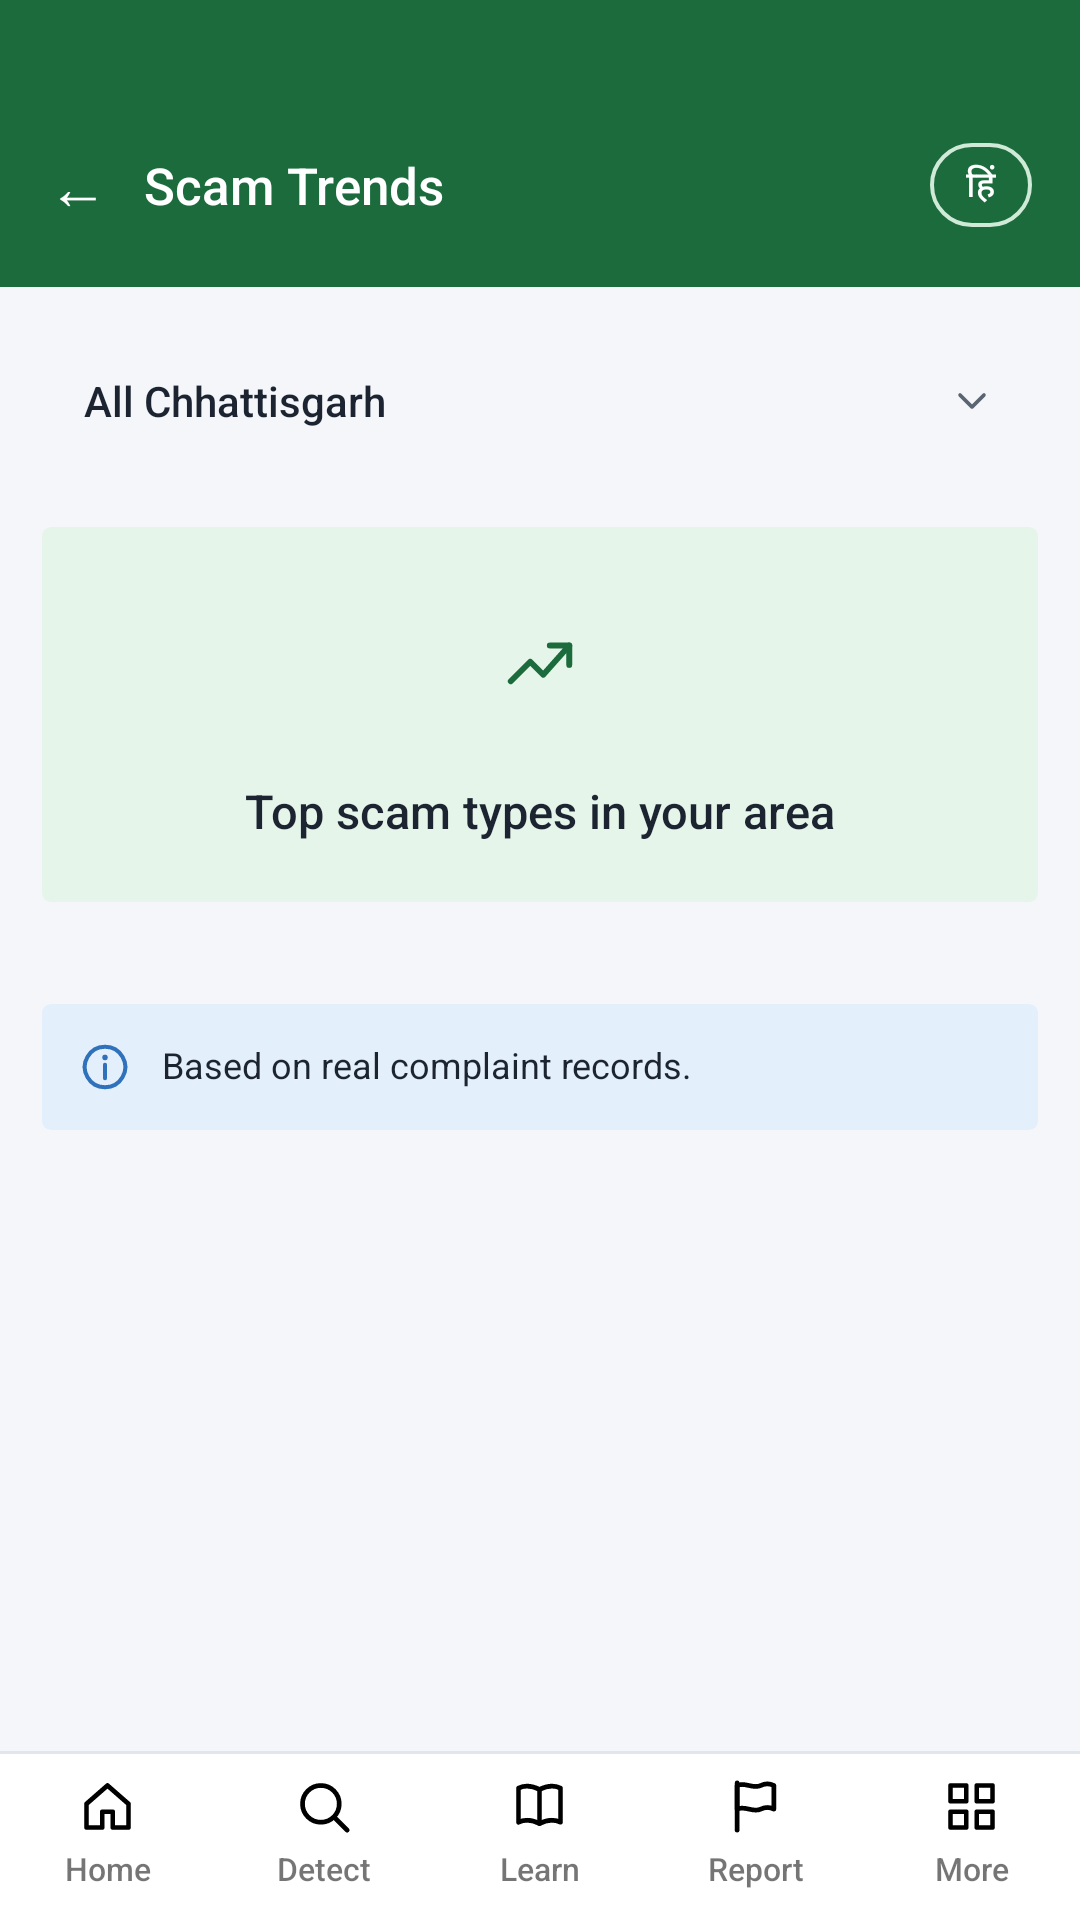

Named icons in this screenshot (1080 × 1920) and their centers, (x,y):
book: (539,1804)
chevron down: (972,401)
flag: (755,1806)
grid: (971,1806)
info: (105,1067)
search: (325,1808)
trend up: (540,663)
